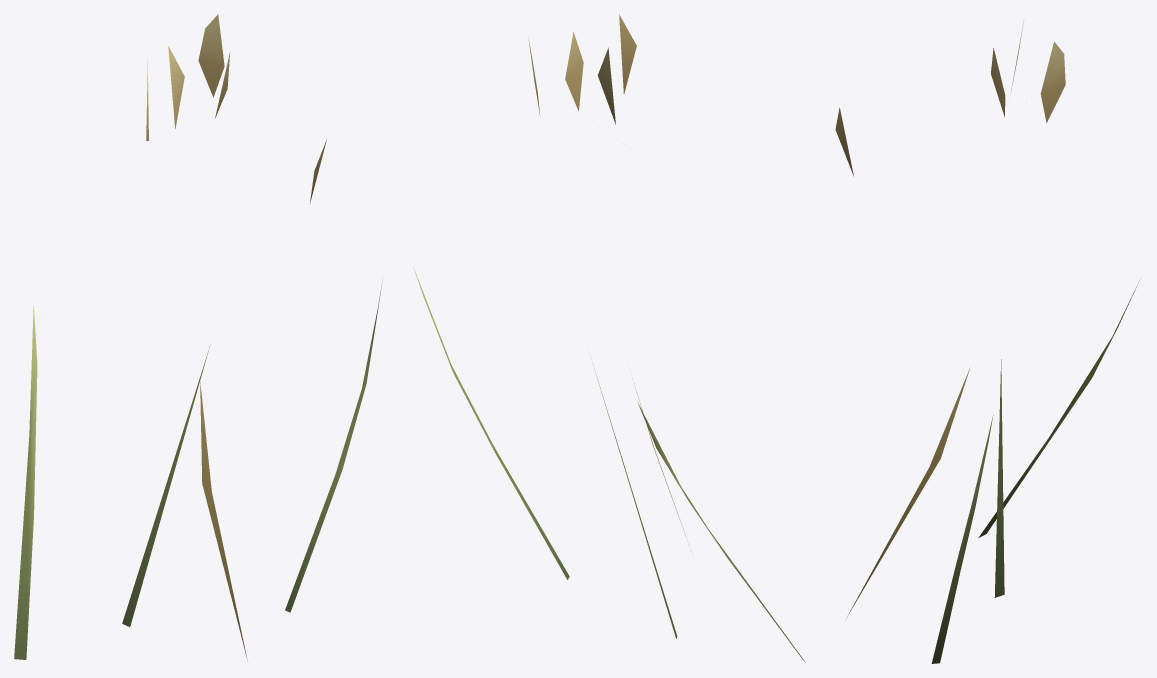
The model's file is WildOatClump_LOD3.glb.
The picture shows the model from 3 angles, left to right: view 1: azimuth 30°, elevation 25°; view 2: azimuth 150°, elevation 25°; view 3: azimuth 270°, elevation 25°; orthographic projection. The views are drawn at different scales.
Visible parts, largest first — view 1: WildOatClump_LOD3; view 2: WildOatClump_LOD3; view 3: WildOatClump_LOD3.
Part boxes in pixels (bbox=[...]): WildOatClump_LOD3: bbox=[14, 14, 382, 660]; WildOatClump_LOD3: bbox=[413, 14, 805, 662]; WildOatClump_LOD3: bbox=[835, 22, 1140, 663].
Size of the model in its own units: 0.3656 by 0.5294 by 0.2383.
